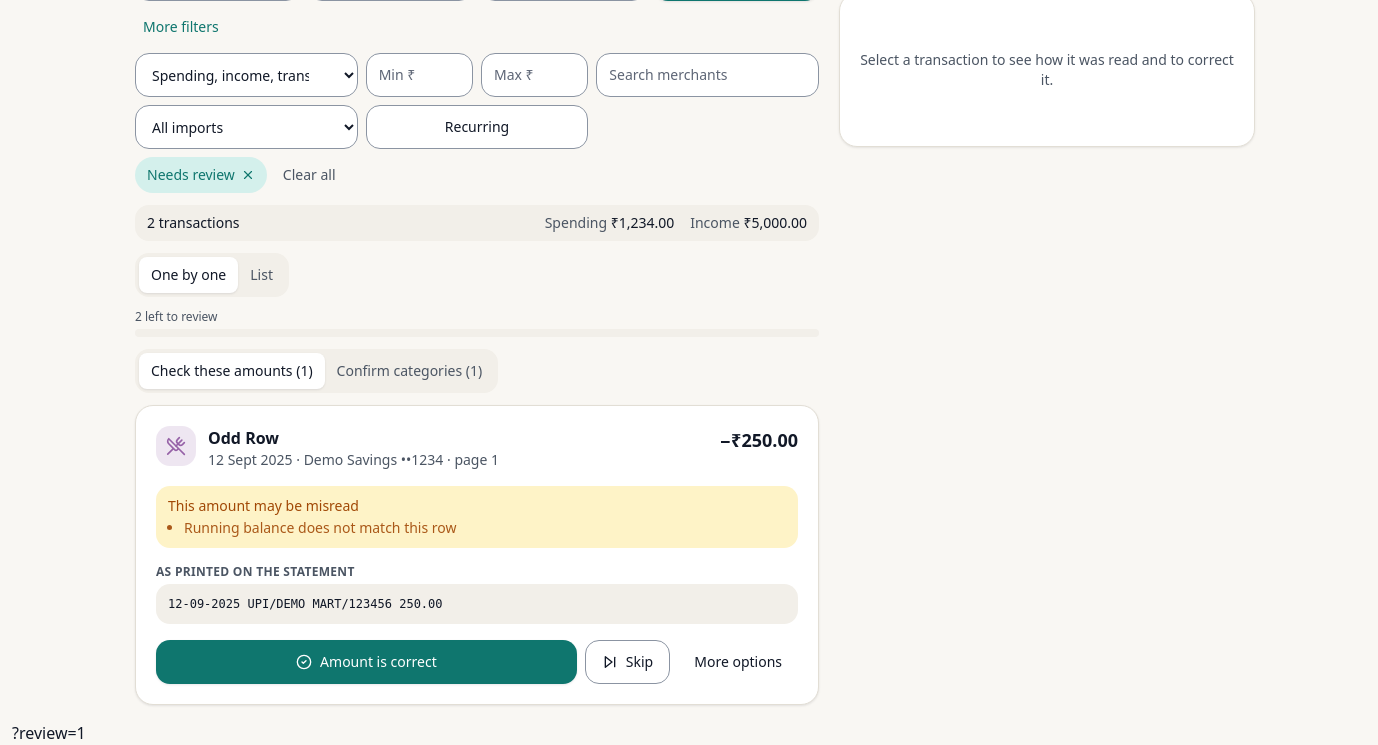
ActivityPage › keeps "check these amounts" apart from "confirm categories"
(page scrolled)
Expected: the radio button labelled "Check these amounts (1)" is checked, [139, 353, 325, 389]
Expected: the list item "Running balance does not match this row" is shown, [184, 518, 456, 538]
What coordinates should you click on to do the following:
click the button "Amount is correct"
I would click on:
 (366, 662)
Its box is [156, 640, 577, 684].
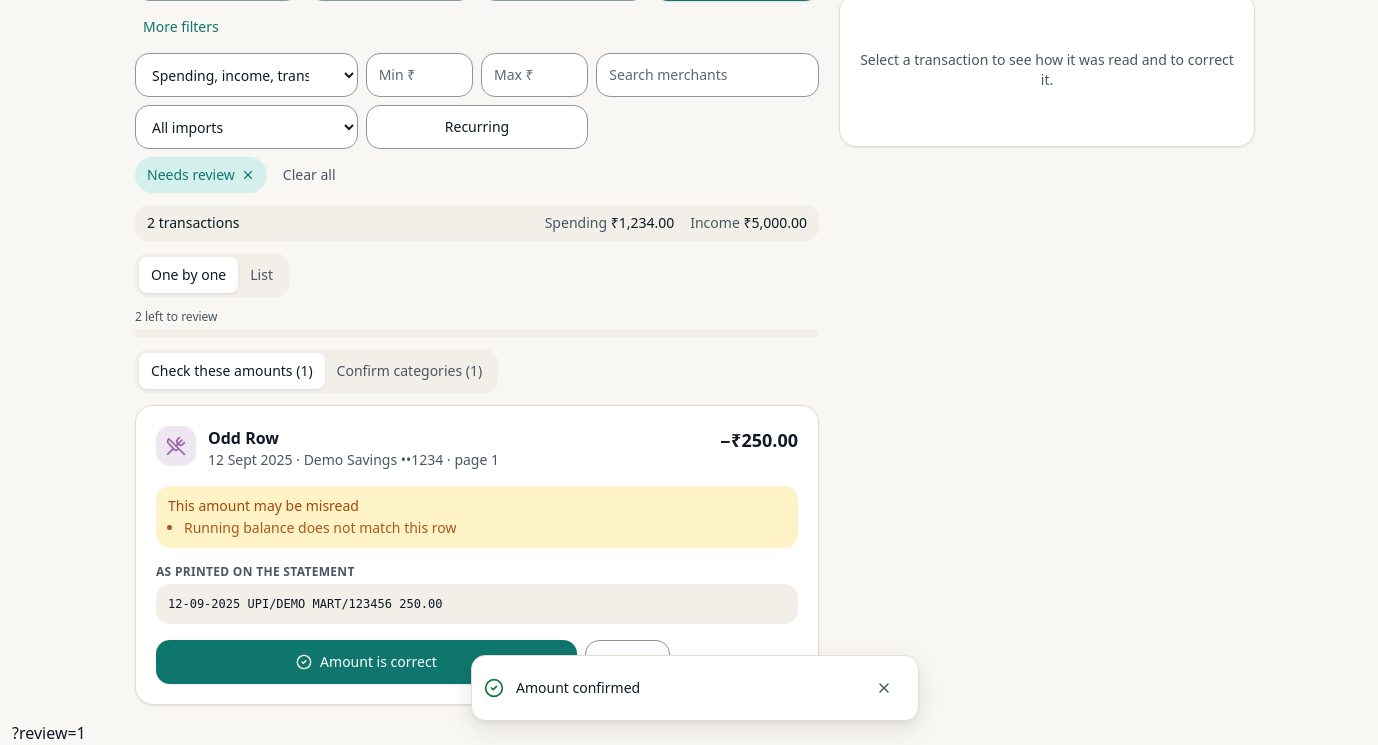
What coordinates should you click on to do the following:
click the radio button labelled "Confirm categories (1)"
I would click on:
 (409, 371)
Its box is [325, 353, 494, 389].
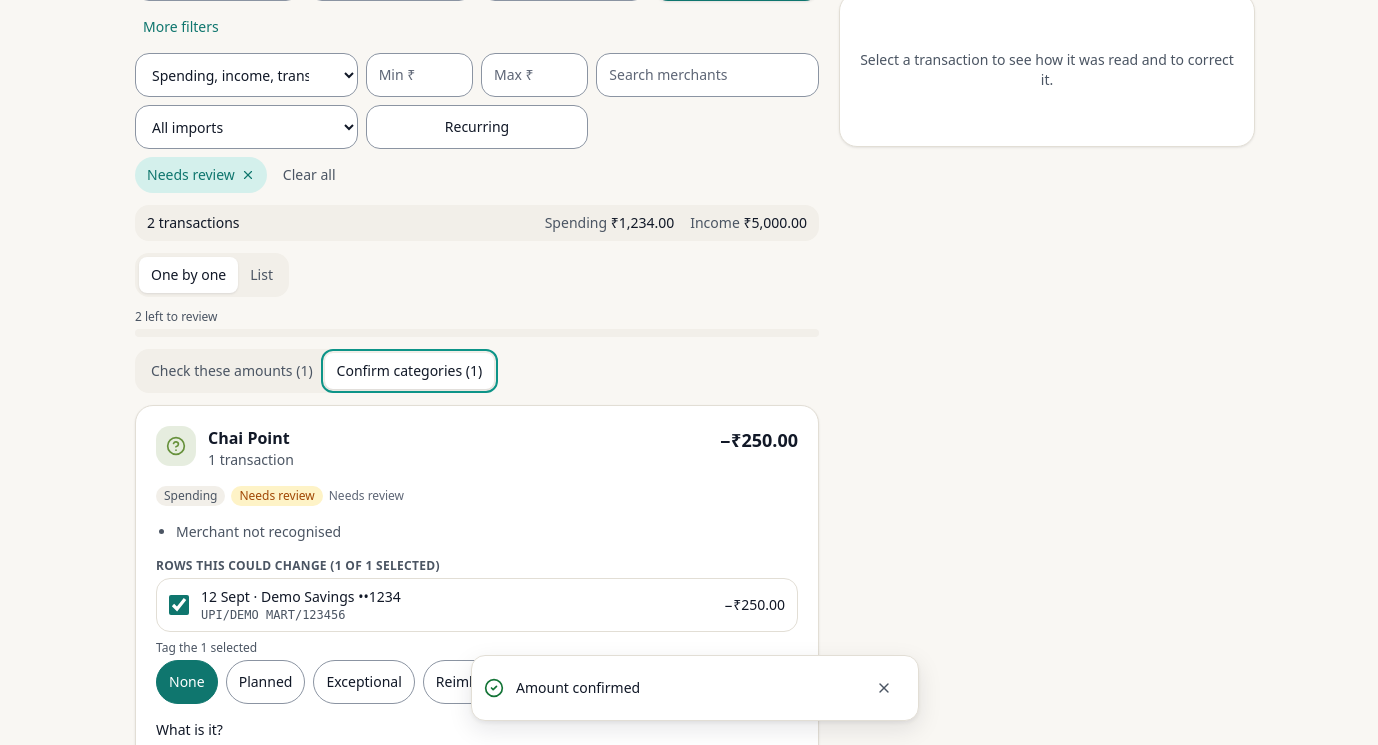
Now the text "Chai Point" is shown, box [208, 427, 290, 449]
